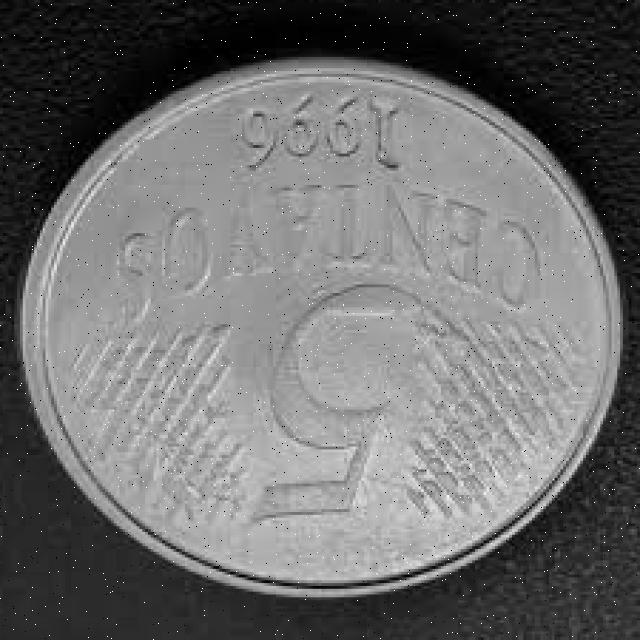5 cent: (20, 48, 620, 592)
